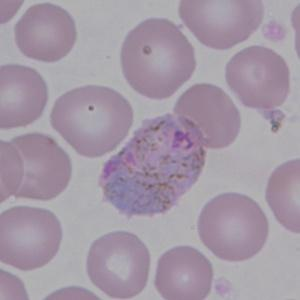Infected: (99, 114, 207, 215)
Uninfected: (121, 19, 197, 101), (49, 85, 133, 159), (0, 133, 68, 204), (198, 193, 268, 260), (174, 84, 240, 149), (86, 230, 150, 297), (225, 45, 289, 109), (0, 205, 62, 270), (13, 1, 77, 63), (181, 0, 261, 49), (153, 245, 213, 300), (0, 64, 47, 127)
